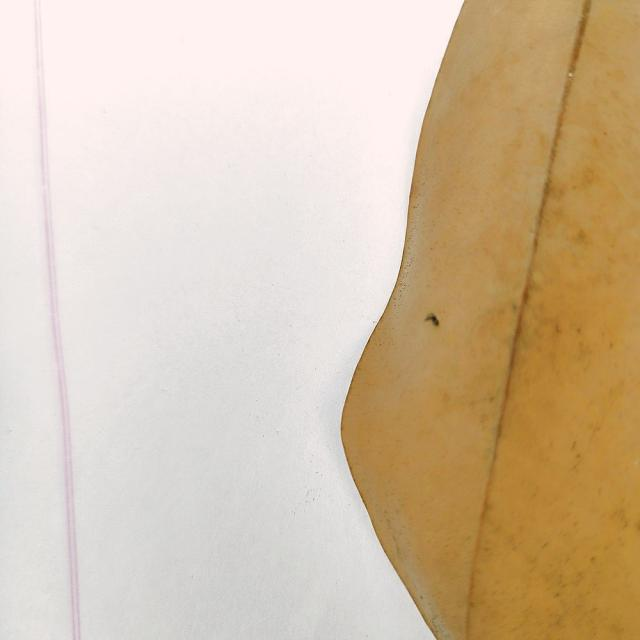Dry_Leaf-Lychee: (339, 0, 639, 639)
